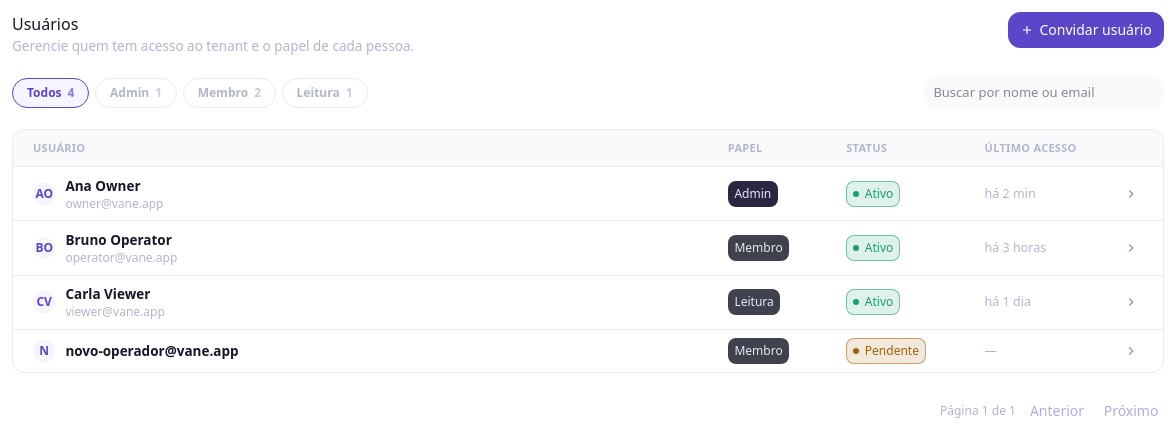
Scenario: AdminsPage › search filters by name or email (USRPG-03)
The image size is (1176, 435).
Check: the text "owner@vane.app" is shown, box [65, 196, 164, 212]
Type "operator" into the field labelled "Buscar por nome ou email".
click(1044, 93); type("operator")  # box [924, 76, 1164, 109]
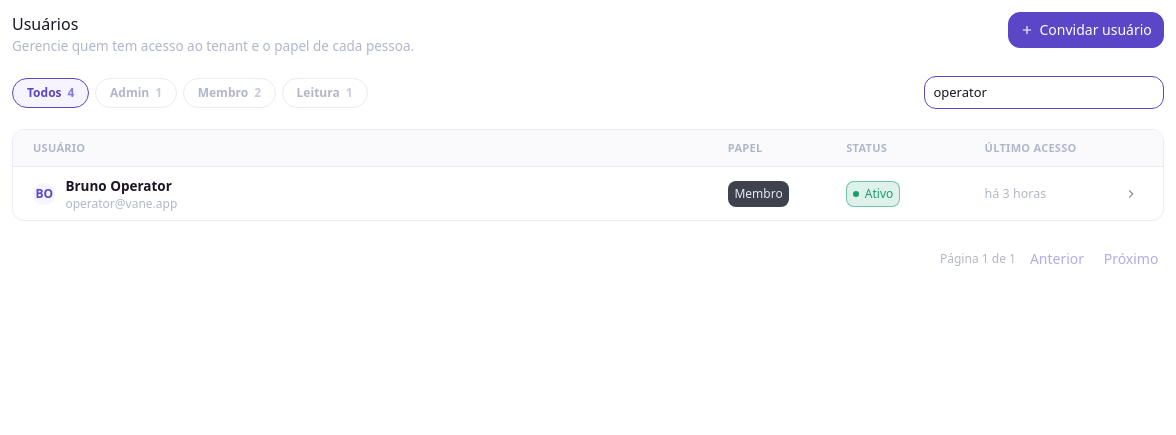
Check: the text "operator@vane.app" is shown, box [65, 196, 177, 212]
Check: the text "owner@vane.app" is gone
